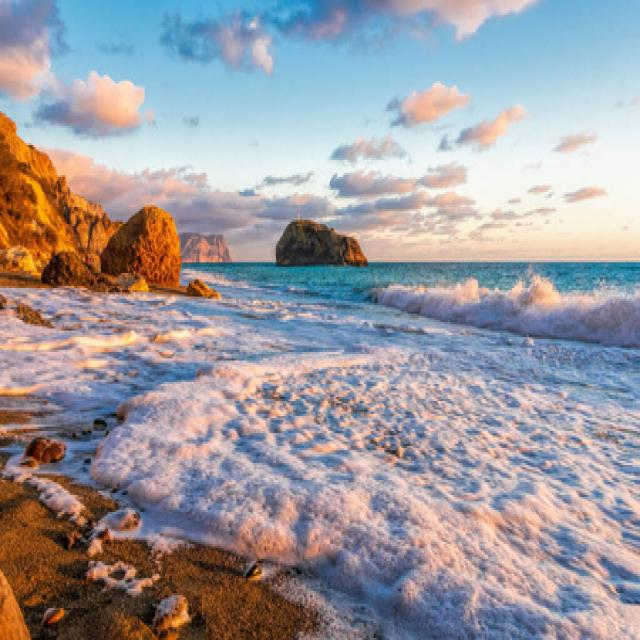island: (268, 192, 370, 273)
